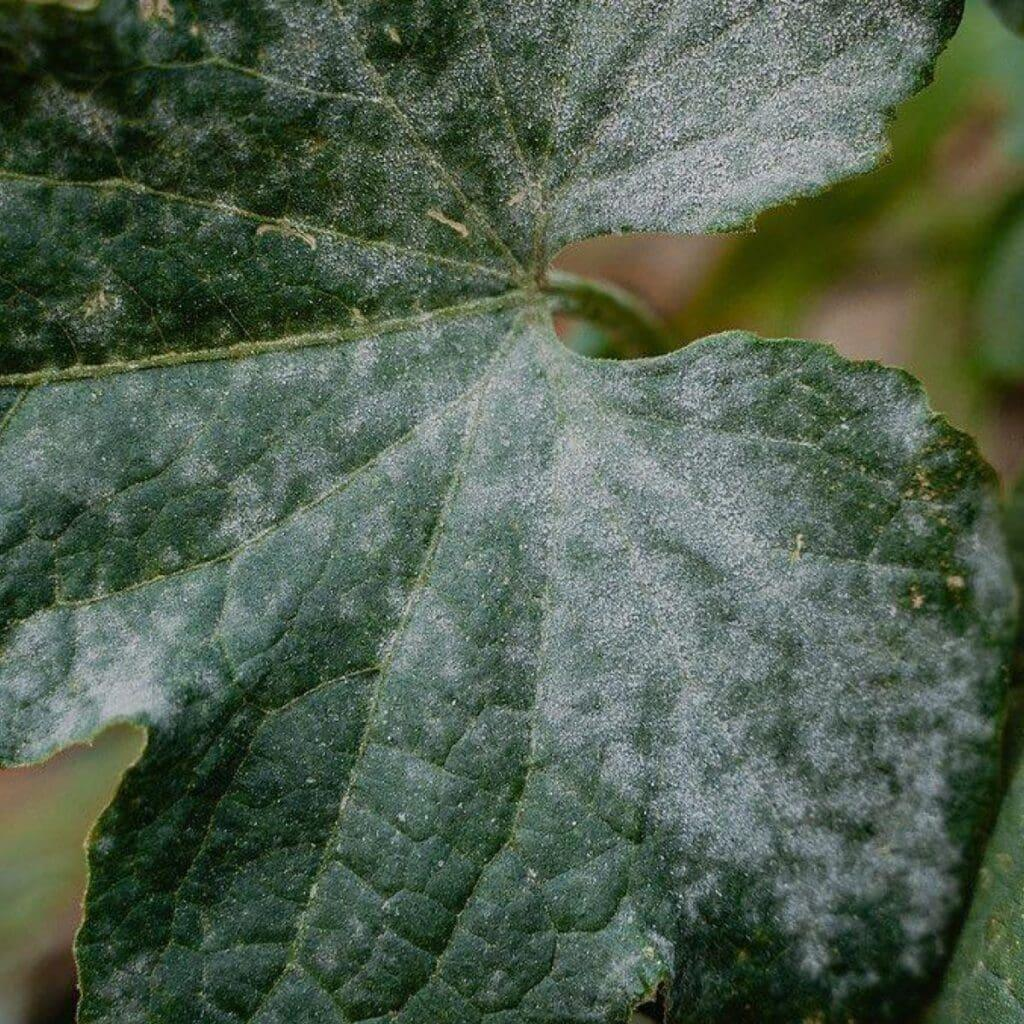leaf_spot: (112, 64, 966, 977)
